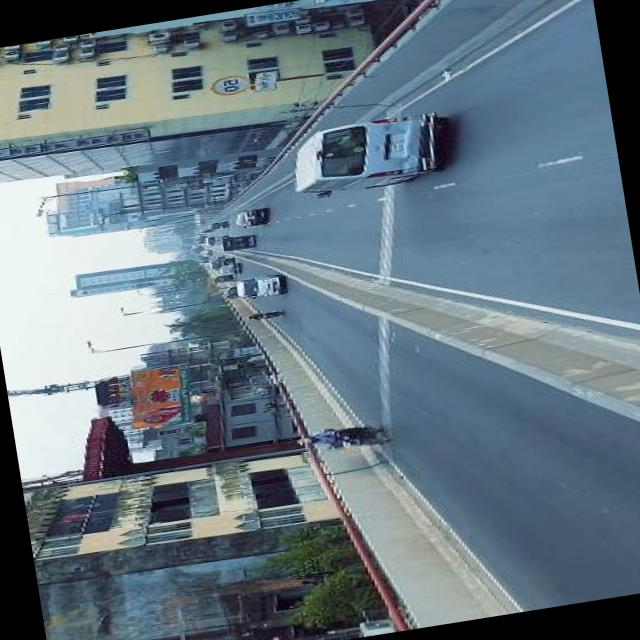car: (230, 202, 266, 230), (215, 260, 242, 276)
motorcycle: (291, 416, 388, 456), (239, 308, 282, 322), (205, 218, 228, 230), (211, 272, 234, 282)
truck: (282, 105, 456, 203), (228, 270, 284, 300)
